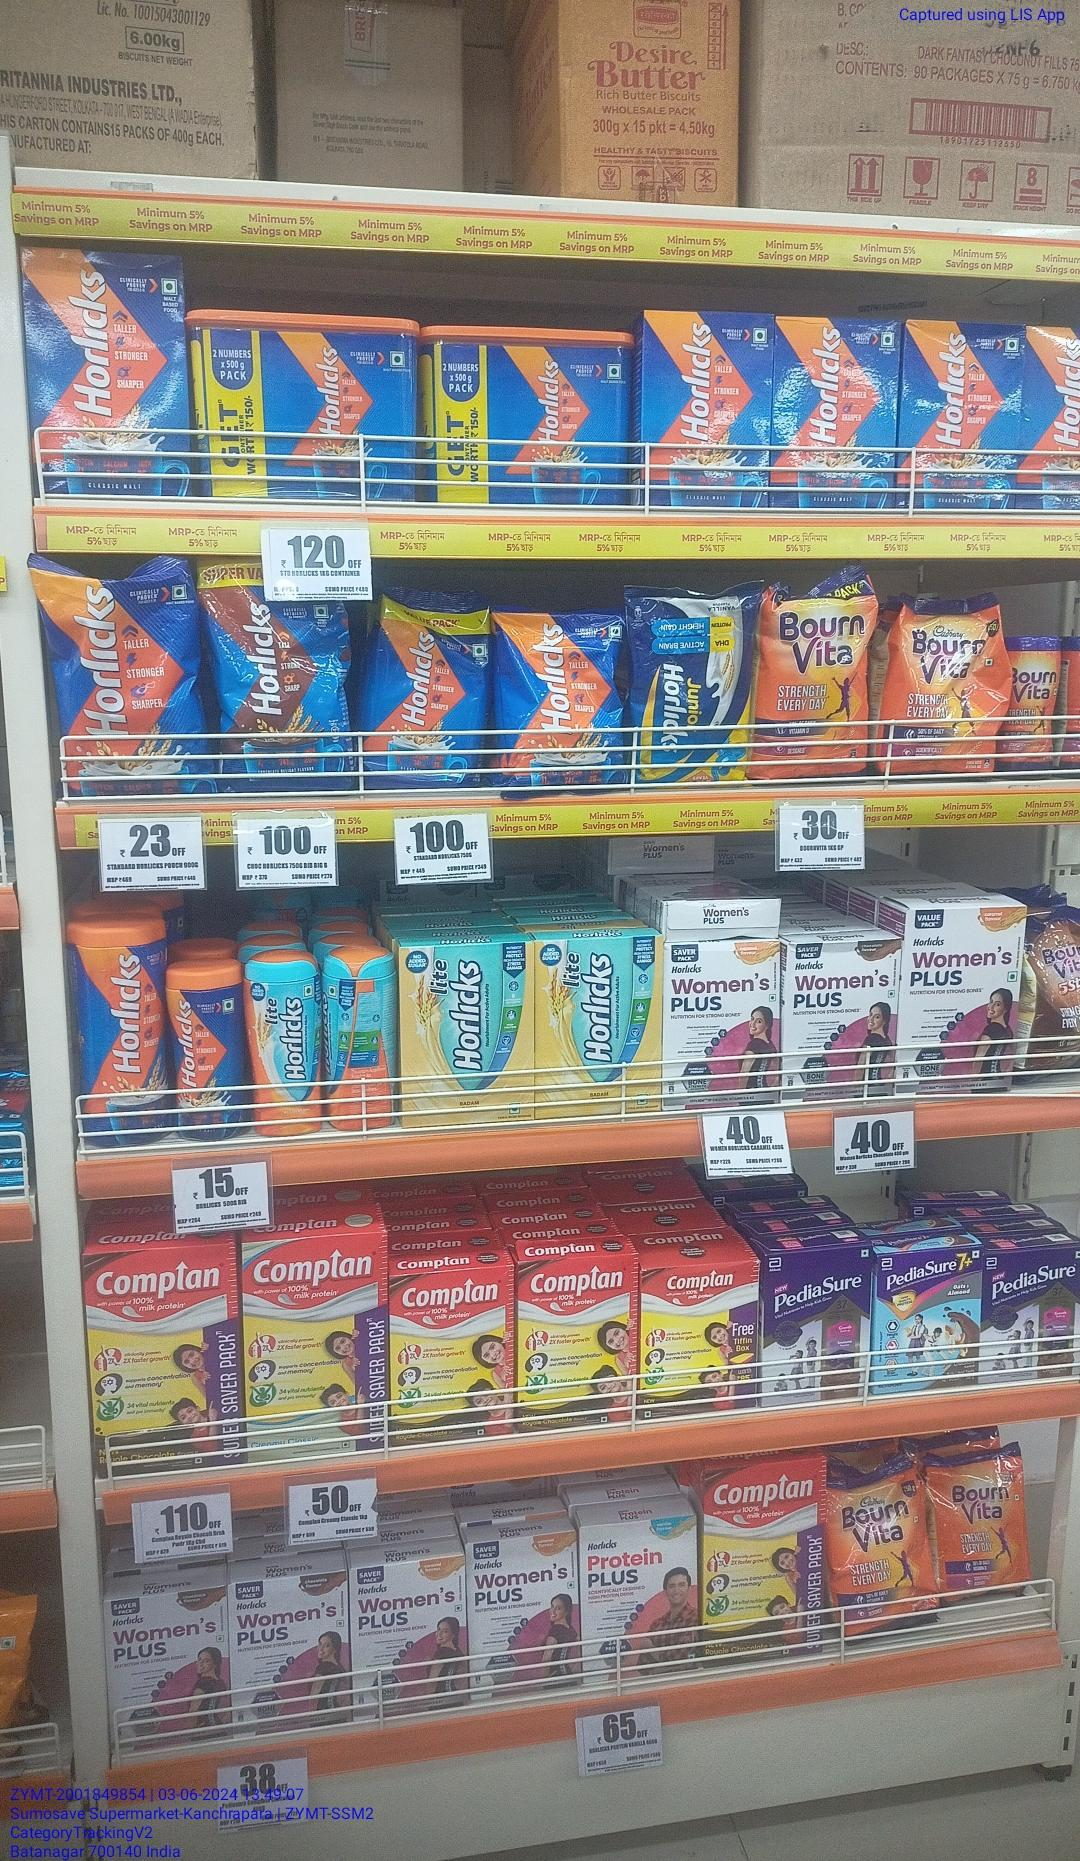BOURN_VITA_1_KG_POUCH: (755, 583, 876, 775)
BOURN_VITA_200_G_JAR: (1008, 635, 1056, 770)
BOURN_VITA_750_G_POUCH: (882, 596, 1008, 774), (829, 1460, 937, 1635), (942, 1450, 1035, 1596)
HORLICKS_LITE_REGULAR_MALT_500_GM_JAR: (324, 947, 399, 1127), (257, 946, 320, 1139)
HORLICK_CHOCOLATE_750_G_POUCH: (222, 565, 357, 787)
HORLICK_CLASSIC_MALT_500_G_JAR: (176, 956, 255, 1140)
HORLICK_CLASSIC_MALT_500_G_PACK: (644, 310, 770, 504), (894, 320, 1016, 509), (779, 320, 891, 512)
HORLICK_CLASSIC_MALT_750_G_POUCH: (51, 559, 217, 797)
HORLICK_MALT_1_KG_CONTAINER: (208, 311, 413, 495), (423, 324, 625, 503)
PEDIASURE_7_PLUS_CHOCOLATE_400_G_PACK: (878, 1248, 981, 1391)
PEDIASURE_CHOCOLATE_500_G_PACK: (771, 1244, 876, 1405), (980, 1236, 1080, 1380)
